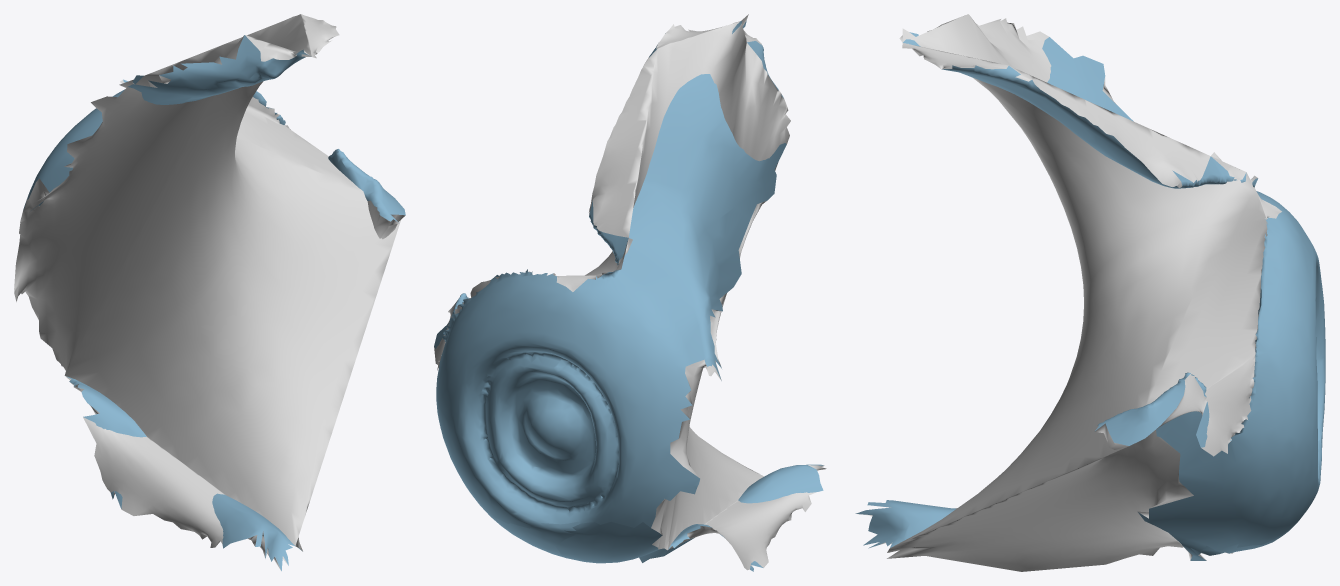
The model's file is Hi3D_Segmented Pastel Female Android 3D Model Asset_part30_20261014_192059.glb.
The picture shows the model from 3 angles, left to right: view 1: azimuth 30°, elevation 25°; view 2: azimuth 150°, elevation 25°; view 3: azimuth 270°, elevation 25°; orthographic projection. The views are drawn at different scales.
Visible parts, largest first — view 1: Hi3D_Segmented Pastel Female Android 3D Model Asset_part30_2; view 2: Hi3D_Segmented Pastel Female Android 3D Model Asset_part30_2; view 3: Hi3D_Segmented Pastel Female Android 3D Model Asset_part30_2.
Boxes of the visible parts, bbox=[...] form: Hi3D_Segmented Pastel Female Android 3D Model Asset_part30_2: bbox=[14, 14, 405, 571]; Hi3D_Segmented Pastel Female Android 3D Model Asset_part30_2: bbox=[434, 14, 826, 571]; Hi3D_Segmented Pastel Female Android 3D Model Asset_part30_2: bbox=[855, 14, 1325, 571].
Bounding box in the file's own units: 0.034 × 0.0498 × 0.0389.
